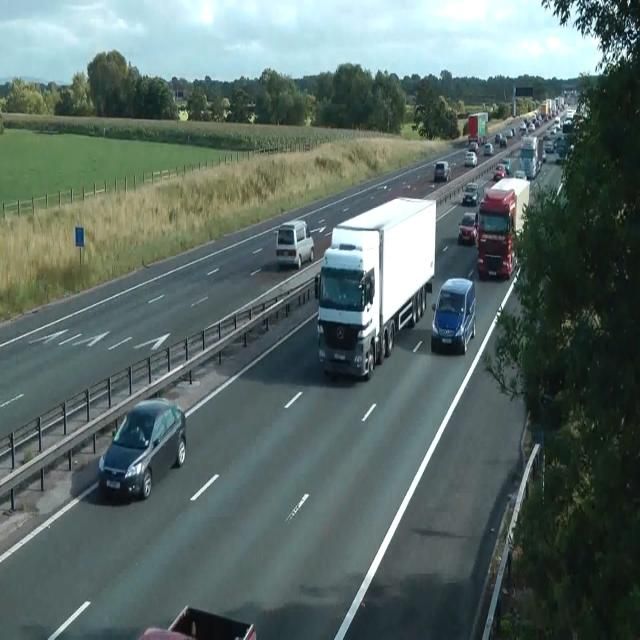bus: (98, 398, 186, 502), (138, 605, 256, 639), (430, 276, 476, 354), (276, 219, 314, 269), (458, 212, 478, 244), (462, 182, 480, 205), (434, 160, 451, 182), (464, 150, 477, 166), (494, 163, 506, 180), (502, 156, 512, 174), (468, 140, 479, 154), (483, 142, 493, 155), (514, 170, 526, 180), (499, 136, 507, 148), (494, 133, 502, 143), (542, 148, 546, 162)
minibus: (314, 196, 436, 380), (476, 177, 530, 280), (519, 134, 545, 180), (468, 111, 488, 146)
